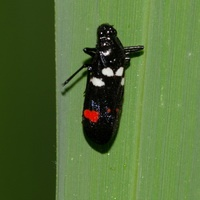insect: (63, 24, 143, 152)
